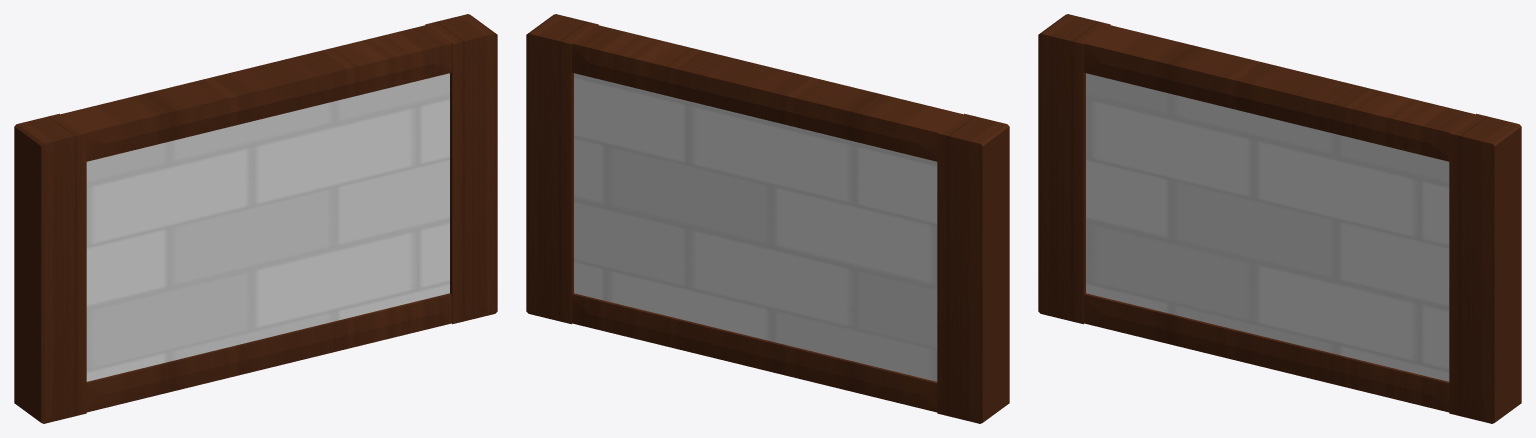
File: Half_Wall_Brick.fbx
The picture shows the model from 3 angles, left to right: view 1: azimuth 30°, elevation 25°; view 2: azimuth 150°, elevation 25°; view 3: azimuth 330°, elevation 25°; orthographic projection.
Parts seen in each view (by area): view 1: Half_Wall; view 2: Half_Wall; view 3: Half_Wall.
Boxes of the visible parts, <box> form: Half_Wall: <box>14,14,497,423</box>; Half_Wall: <box>526,14,1009,423</box>; Half_Wall: <box>1038,14,1521,423</box>.
Size of the model in its own units: 212 by 124 by 23.4.
